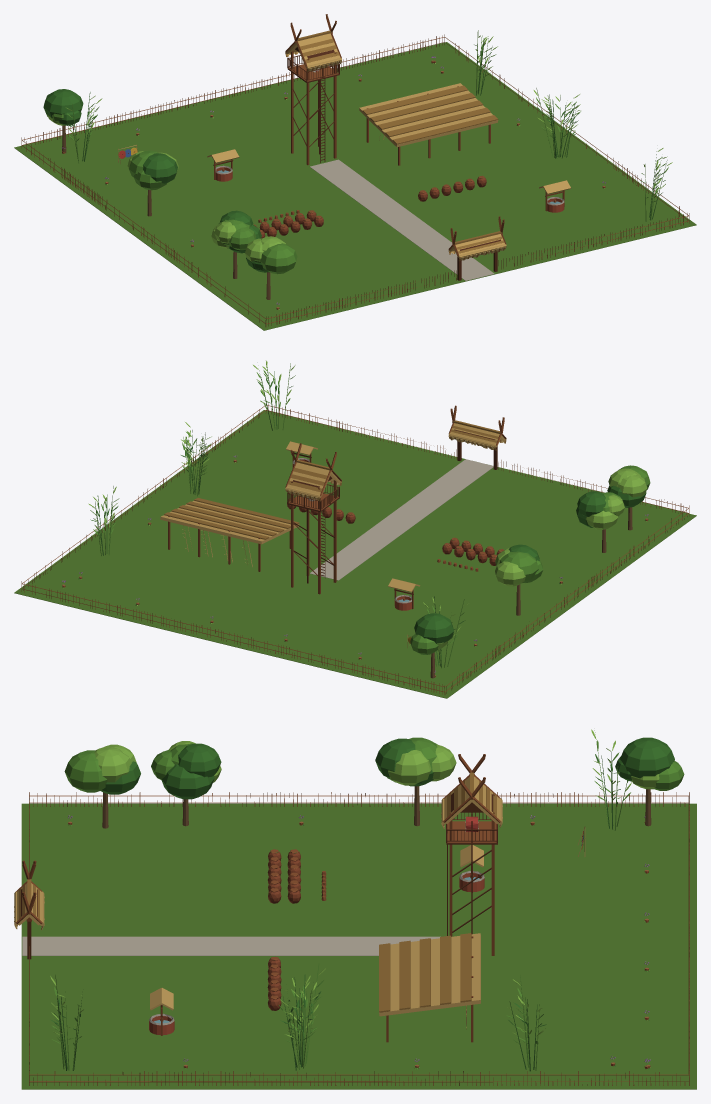
The model's file is fire.glb.
The picture shows the model from 3 angles, top to bottom: view 1: azimuth 30°, elevation 25°; view 2: azimuth 150°, elevation 25°; view 3: azimuth 270°, elevation 25°; orthographic projection. The views are drawn at different scales.
Parts seen in each view (by area): view 1: body; view 2: body; view 3: body.
Part boxes in pixels (x1=…): body: x1=14, y1=14, x2=696, y2=330; body: x1=14, y1=360, x2=696, y2=698; body: x1=14, y1=729, x2=696, y2=1089.
Size of the model in its own units: 47.9 by 14.4 by 48.44.
